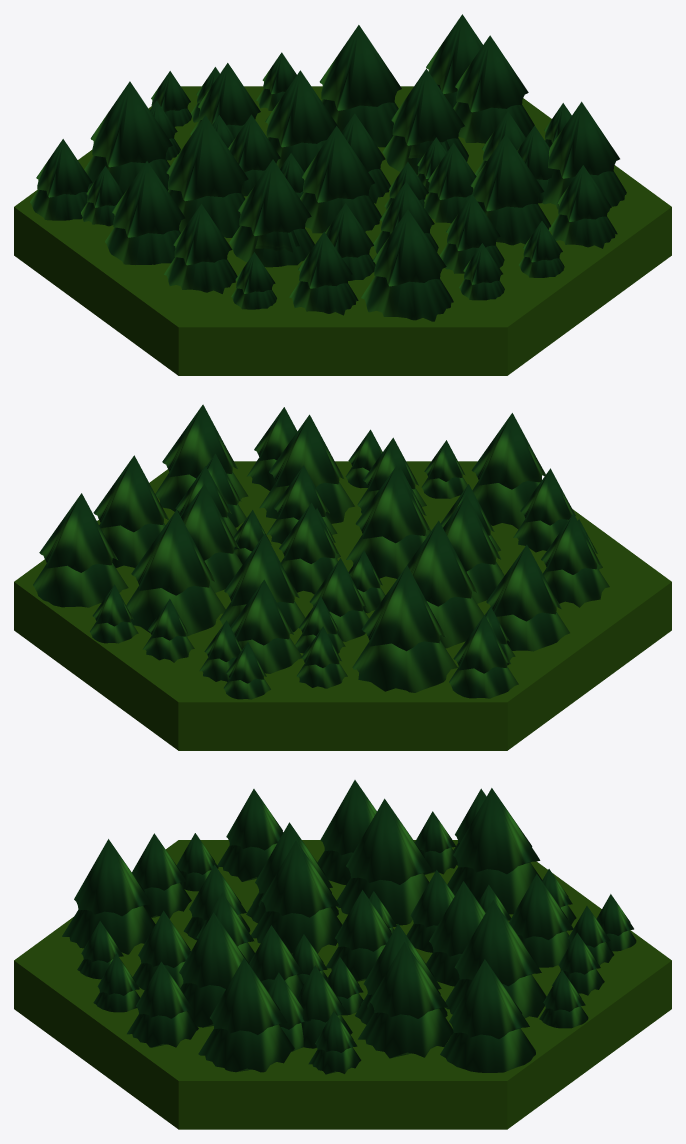
The model's file is lasiglasty.gltf.
3 views of the same model, one above another, from view 1: azimuth 30°, elevation 25°; view 2: azimuth 150°, elevation 25°; view 3: azimuth 270°, elevation 25° (orthographic).
Visible parts, largest first — view 1: hextile, iglak.055, iglak.053, iglak.009, iglak.059, iglak.052, iglak.049, iglak.051, iglak.007, iglak.015, iglak.022, iglak.004 (+26 smaller); view 2: hextile, iglak.059, iglak.009, iglak.003, iglak.051, iglak.055, iglak.052, iglak.053, iglak.007, iglak.015, iglak.022, iglak.054 (+24 smaller); view 3: hextile, iglak.003, iglak.007, iglak.053, iglak.022, iglak.059, iglak.055, iglak.051, iglak.009, iglak.015, iglak.062, iglak.006 (+27 smaller).
Part boxes in pixels (x1=…): hextile: x1=14, y1=86, x2=671, y2=375; iglak.055: x1=361, y1=209, x2=453, y2=321; iglak.053: x1=166, y1=115, x2=248, y2=237; iglak.009: x1=319, y1=25, x2=401, y2=147; iglak.059: x1=84, y1=81, x2=172, y2=193; iglak.052: x1=105, y1=161, x2=185, y2=264; iglak.049: x1=229, y1=159, x2=314, y2=267; iglak.051: x1=300, y1=126, x2=381, y2=233; iglak.007: x1=453, y1=35, x2=534, y2=143; iglak.015: x1=470, y1=134, x2=550, y2=245; iglak.022: x1=542, y1=101, x2=626, y2=212; iglak.004: x1=382, y1=69, x2=468, y2=174; hextile: x1=14, y1=461, x2=671, y2=750; iglak.059: x1=352, y1=565, x2=457, y2=692; iglak.009: x1=126, y1=509, x2=225, y2=636; iglak.003: x1=33, y1=493, x2=128, y2=607; iglak.051: x1=346, y1=466, x2=431, y2=578; iglak.055: x1=471, y1=413, x2=545, y2=529; iglak.052: x1=486, y1=544, x2=569, y2=651; iglak.053: x1=407, y1=520, x2=483, y2=648; iglak.007: x1=93, y1=455, x2=169, y2=567; iglak.015: x1=259, y1=414, x2=354, y2=523; iglak.022: x1=155, y1=404, x2=248, y2=515; iglak.054: x1=541, y1=513, x2=609, y2=607; hextile: x1=14, y1=840, x2=671, y2=1129; iglak.003: x1=440, y1=959, x2=535, y2=1072; iglak.007: x1=358, y1=942, x2=453, y2=1058; iglak.053: x1=336, y1=798, x2=433, y2=925; iglak.022: x1=198, y1=958, x2=294, y2=1072; iglak.059: x1=447, y1=788, x2=542, y2=914; iglak.055: x1=62, y1=839, x2=155, y2=954; iglak.051: x1=251, y1=840, x2=342, y2=954; iglak.009: x1=445, y1=900, x2=546, y2=1018; iglak.015: x1=179, y1=912, x2=249, y2=1027; iglak.062: x1=127, y1=961, x2=198, y2=1047; iglak.006: x1=509, y1=874, x2=573, y2=967.
Bounding box in the file's own units: 1.73 × 0.518 × 2.
2 materials, 1 textured.
